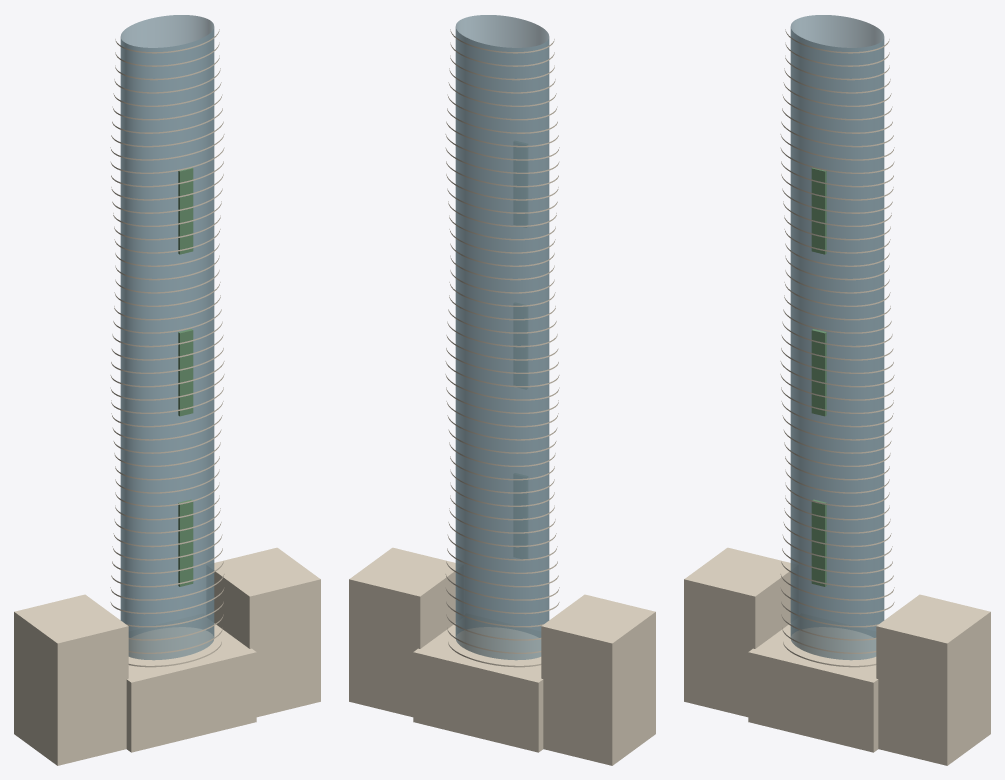
Rendered from aurelia-tower-v1.glb.
3 renders of one model, left to right at view 1: azimuth 30°, elevation 25°; view 2: azimuth 150°, elevation 25°; view 3: azimuth 330°, elevation 25°, orthographic.
Visible parts, largest first — view 1: Aurelia Tower; view 2: Aurelia Tower; view 3: Aurelia Tower.
Boxes of the visible parts, x1,y1,x2,y2 form: Aurelia Tower: [14, 15, 320, 765]; Aurelia Tower: [349, 15, 655, 765]; Aurelia Tower: [684, 15, 990, 765].
Bounding box in the file's own units: 63 × 157 × 22.
